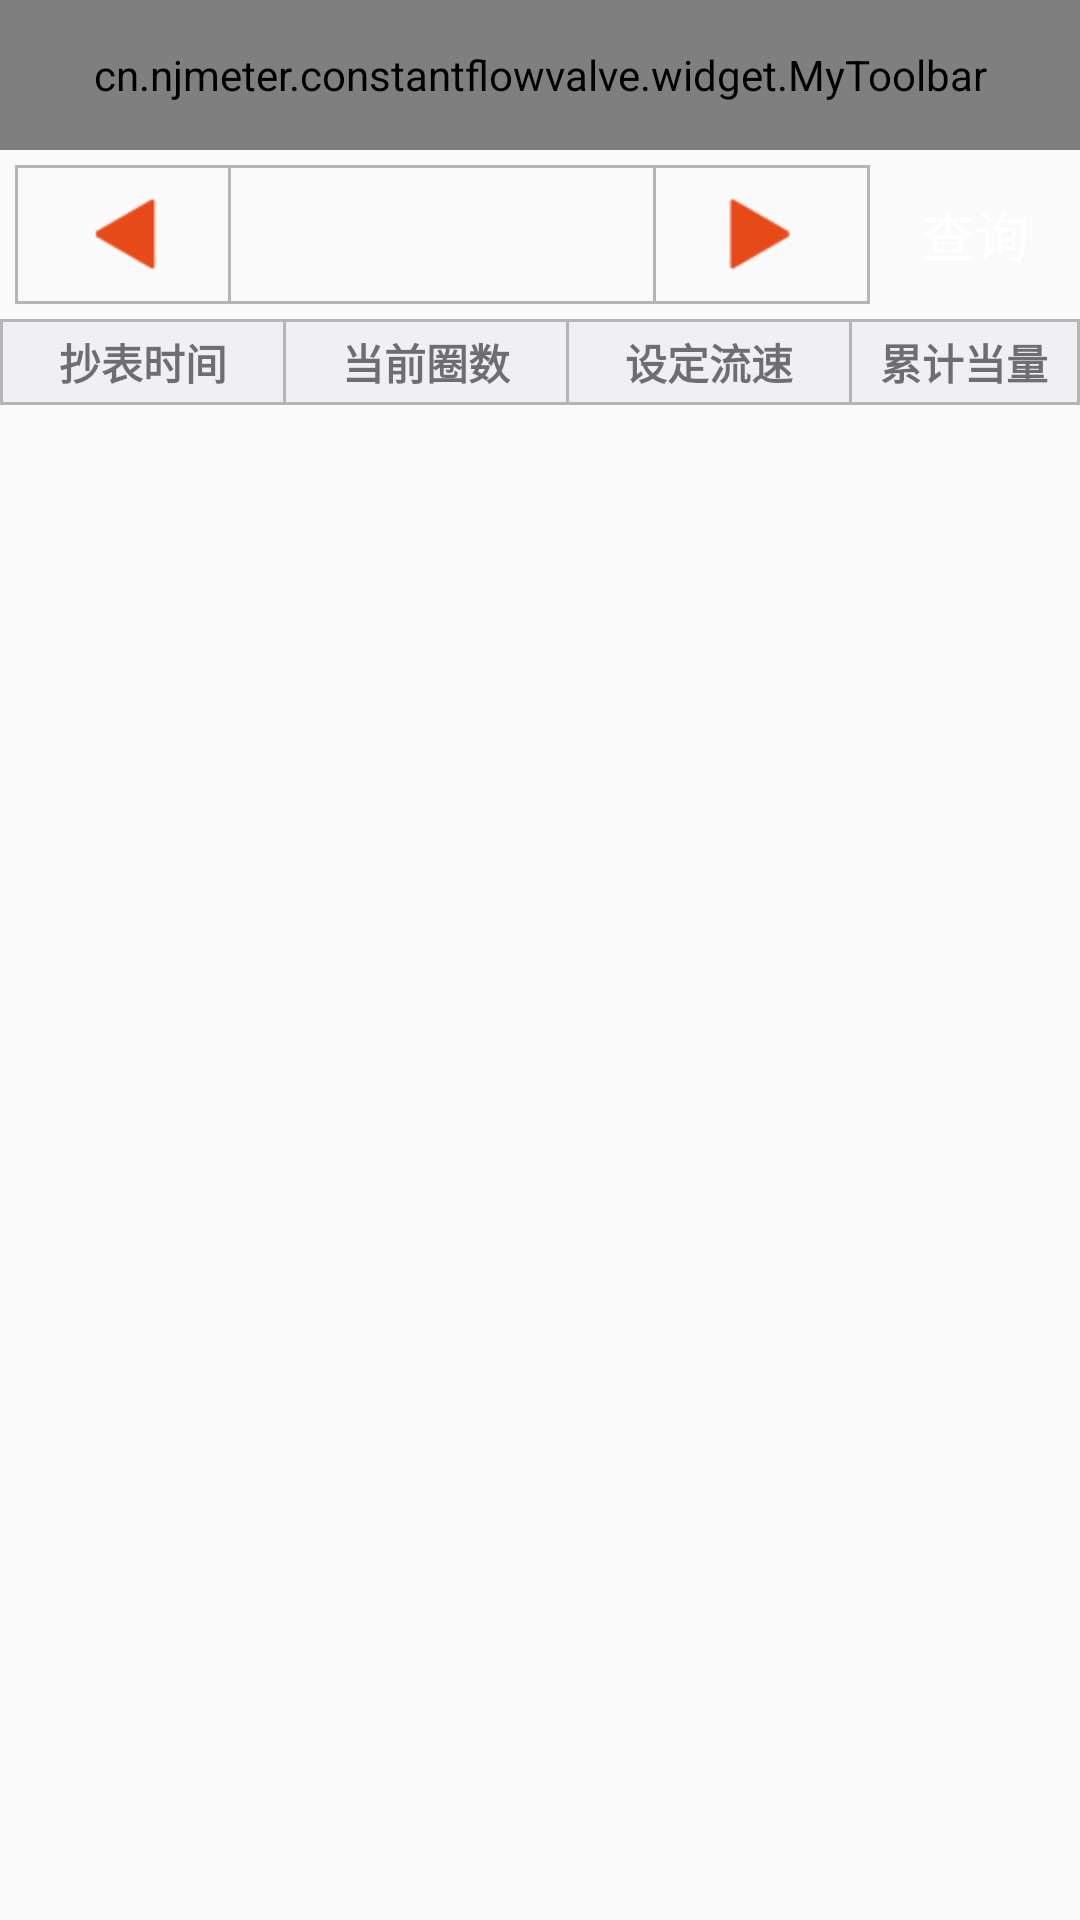

Point at icon controls on the screen. Image size 1080x1920, points as [x,y].
next page: [759,234]
previous page: [125,234]
